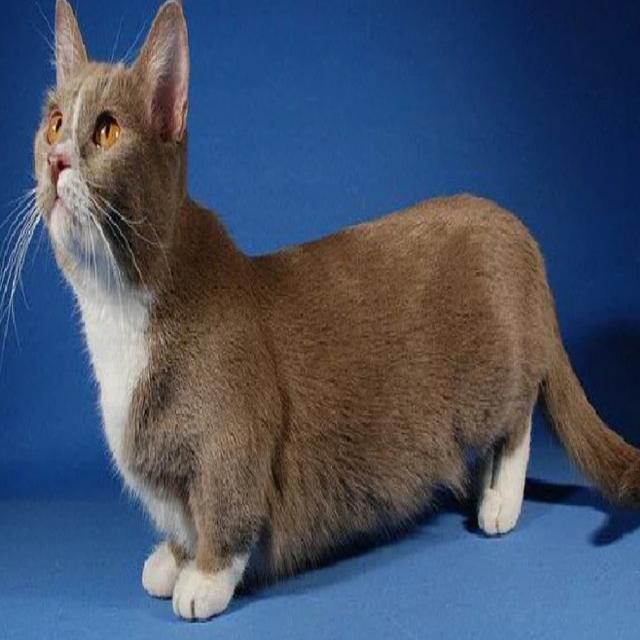Munchkin: (30, 0, 639, 624)
